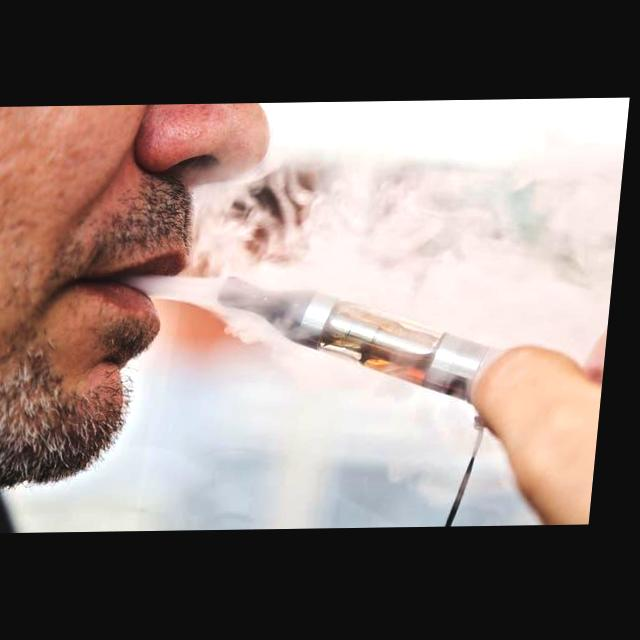vape: (214, 272, 526, 407)
